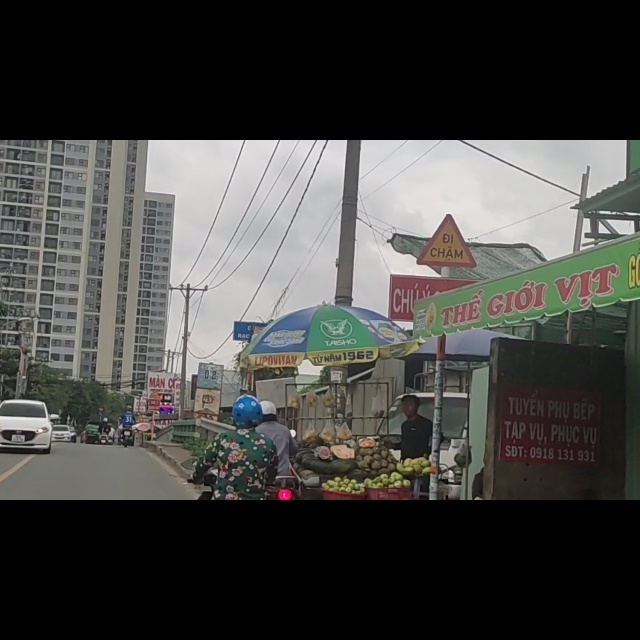bien_nguy_hiem: (413, 130, 475, 225)
